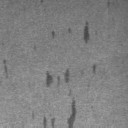red iron: (32, 68, 77, 128), (68, 21, 90, 44), (3, 60, 8, 78), (92, 64, 96, 74), (52, 30, 55, 38), (108, 0, 110, 7)
